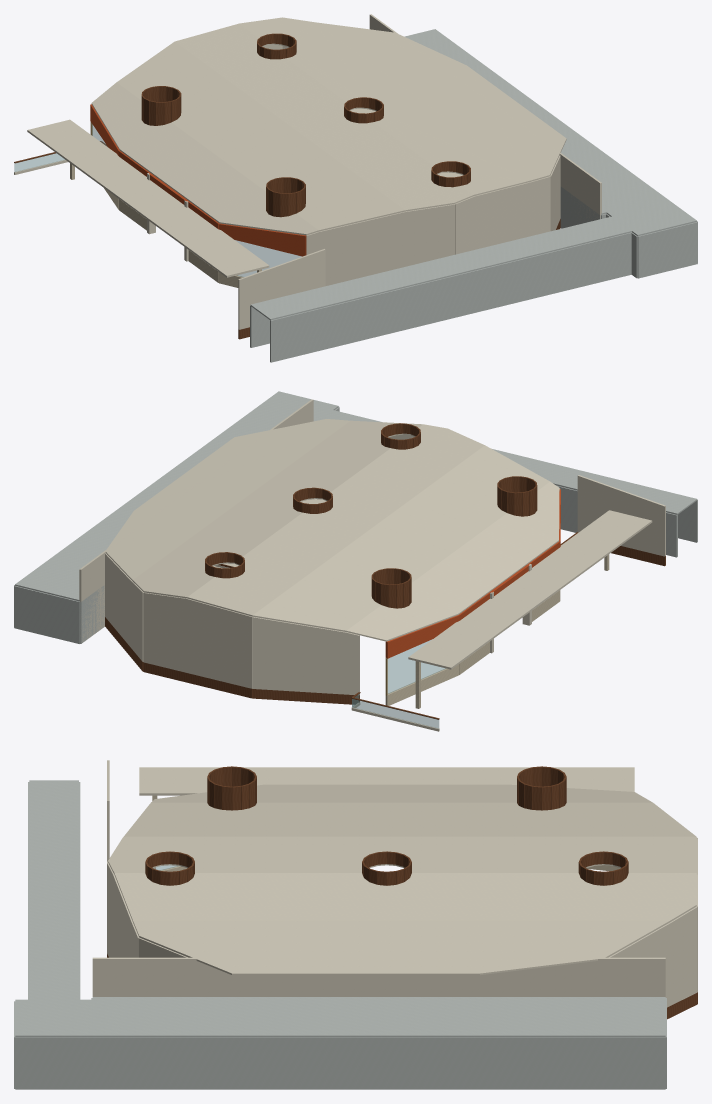
The model's file is AST-RTL-007.glb.
The picture shows the model from 3 angles, top to bottom: view 1: azimuth 30°, elevation 25°; view 2: azimuth 150°, elevation 25°; view 3: azimuth 270°, elevation 25°; orthographic projection. The views are drawn at different scales.
Parts seen in each view (by area): view 1: TAIL_StaffOuter_6, TAIL_PromenadeCanopy, TAIL_PublicCeiling_40, TAIL_PublicCeiling_105, TAIL_PublicCeiling_71, TAIL_PublicWall_22_1, TAIL_PublicCeiling_101, TAIL_ServiceCeiling_4, TAIL_ServiceCeiling_1, TAIL_PublicCeiling_41, TAIL_PublicCeiling_102, TAIL_PublicCeiling_20 (+29 smaller); view 2: TAIL_PromenadeCanopy, TAIL_PublicCeiling_40, TAIL_PublicCeiling_105, TAIL_PublicWall_16_0, TAIL_PublicCeiling_71, TAIL_ServiceCeiling_3, TAIL_PublicWall_15_1, TAIL_PublicCeiling_101, TAIL_PublicCeiling_41, TAIL_PublicWall_20, TAIL_PublicCeiling_102, TAIL_PublicCeiling_1 (+34 smaller); view 3: TAIL_StaffOuter_11, TAIL_PublicCeiling_105, TAIL_ServiceCeiling_3, TAIL_ServiceCeiling_0, TAIL_PublicCeiling_101, TAIL_PromenadeCanopy, TAIL_PublicCeiling_40, TAIL_PublicCeiling_71, TAIL_PublicCeiling_102, TAIL_ServiceCeiling_4, TAIL_ServiceCeiling_1, TAIL_UpperStaffScreen_4 (+36 smaller).
Part boxes in pixels (x1,y1,x2,y2): TAIL_StaffOuter_6: (270, 232, 631, 362); TAIL_PromenadeCanopy: (27, 119, 269, 277); TAIL_PublicCeiling_40: (174, 42, 403, 209); TAIL_PublicCeiling_105: (315, 22, 530, 179); TAIL_PublicCeiling_71: (176, 42, 404, 209); TAIL_PublicWall_22_1: (319, 211, 405, 285); TAIL_PublicCeiling_101: (315, 22, 529, 179); TAIL_ServiceCeiling_4: (270, 216, 631, 320); TAIL_ServiceCeiling_1: (250, 217, 609, 320); TAIL_PublicCeiling_41: (182, 113, 404, 210); TAIL_PublicCeiling_102: (467, 66, 566, 179); TAIL_PublicCeiling_20: (120, 123, 219, 222); TAIL_PromenadeCanopy: (408, 510, 652, 669); TAIL_PublicCeiling_40: (253, 445, 484, 615); TAIL_PublicCeiling_105: (133, 421, 349, 579); TAIL_PublicWall_16_0: (252, 617, 346, 694); TAIL_PublicCeiling_71: (253, 445, 484, 614); TAIL_ServiceCeiling_3: (15, 419, 240, 601); TAIL_PublicWall_15_1: (186, 598, 252, 688); TAIL_PublicCeiling_101: (133, 421, 350, 579); TAIL_PublicCeiling_41: (395, 446, 497, 570); TAIL_PublicWall_20: (577, 475, 665, 556); TAIL_PublicCeiling_102: (134, 421, 349, 510); TAIL_PublicCeiling_1: (411, 513, 558, 586); TAIL_StaffOuter_11: (108, 1037, 665, 1089); TAIL_PublicCeiling_105: (134, 920, 669, 973); TAIL_ServiceCeiling_3: (108, 997, 665, 1037); TAIL_ServiceCeiling_0: (93, 997, 652, 1035); TAIL_PublicCeiling_101: (135, 885, 667, 920); TAIL_PromenadeCanopy: (139, 767, 634, 795); TAIL_PublicCeiling_40: (126, 809, 695, 836); TAIL_PublicCeiling_71: (126, 836, 693, 861); TAIL_PublicCeiling_102: (134, 921, 479, 975); TAIL_ServiceCeiling_4: (29, 781, 78, 999); TAIL_ServiceCeiling_1: (29, 780, 78, 998); TAIL_UpperStaffScreen_4: (92, 957, 239, 996).
Bounding box in the file's own units: 39.09 × 8.26 × 44.18.
Materials: 11 (9 with a texture image).
